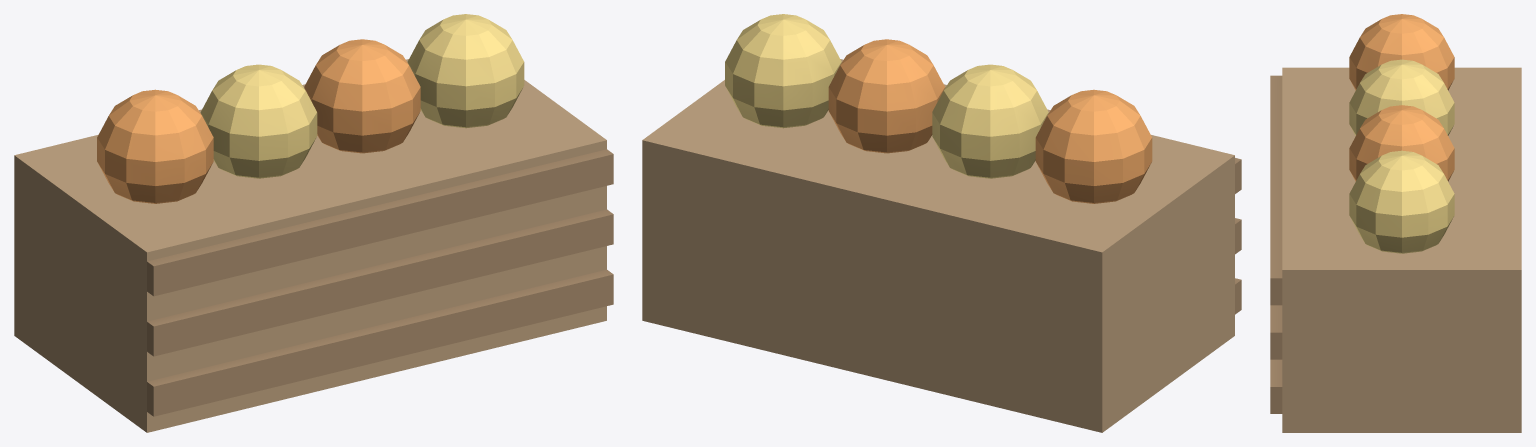
File: VGoodsBox.fbx
The picture shows the model from 3 angles, left to right: view 1: azimuth 30°, elevation 25°; view 2: azimuth 150°, elevation 25°; view 3: azimuth 270°, elevation 25°; orthographic projection. The views are drawn at different scales.
Visible parts, largest first — view 1: VGoodsBox; view 2: VGoodsBox; view 3: VGoodsBox.
Boxes of the visible parts, left/top/right/bottom form: VGoodsBox: left=14, top=14, right=613, bottom=432; VGoodsBox: left=642, top=14, right=1241, bottom=432; VGoodsBox: left=1270, top=14, right=1521, bottom=432.
Bounding box in the file's own units: 0.8 × 0.45 × 0.42.
